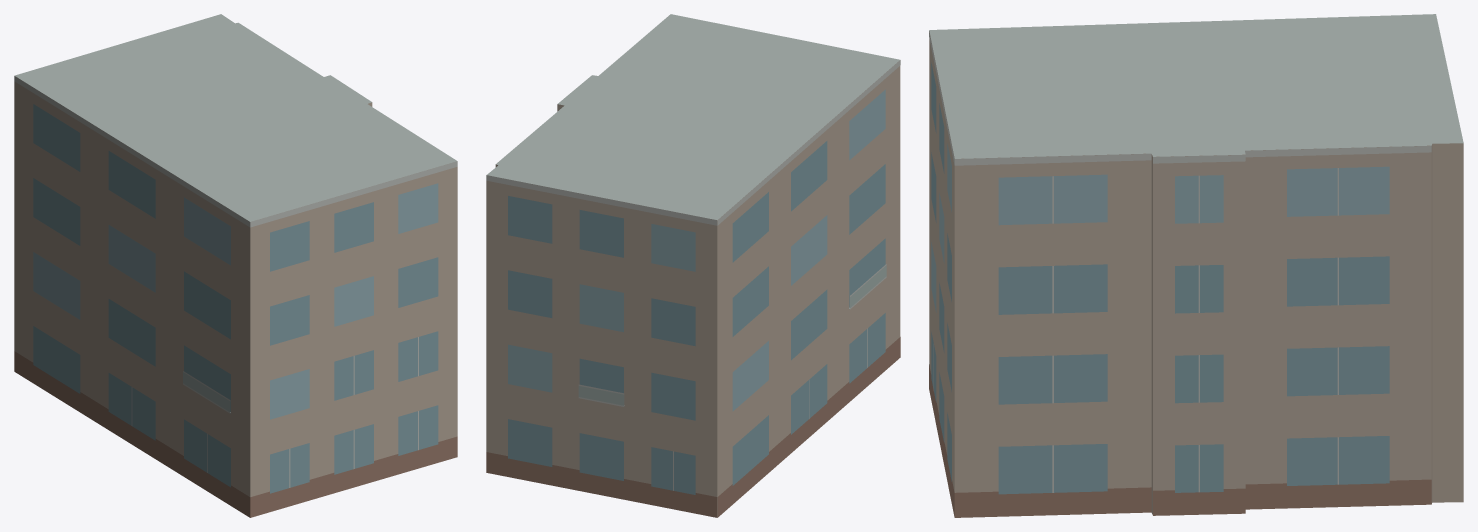
File: survey-upis-32732776.glb
3 renders of one model, left to right at view 1: azimuth 30°, elevation 25°; view 2: azimuth 150°, elevation 25°; view 3: azimuth 270°, elevation 25°, orthographic. The views are drawn at different scales.
Parts seen in each view (by area): view 1: survey-upis-32732776.tmp; view 2: survey-upis-32732776.tmp; view 3: survey-upis-32732776.tmp.
Part boxes in pixels (x1,y1,x2,y2): survey-upis-32732776.tmp: [14, 14, 457, 517]; survey-upis-32732776.tmp: [486, 14, 900, 517]; survey-upis-32732776.tmp: [929, 14, 1463, 517].
Size of the model in its own units: 11.23 by 12.95 by 17.49.
